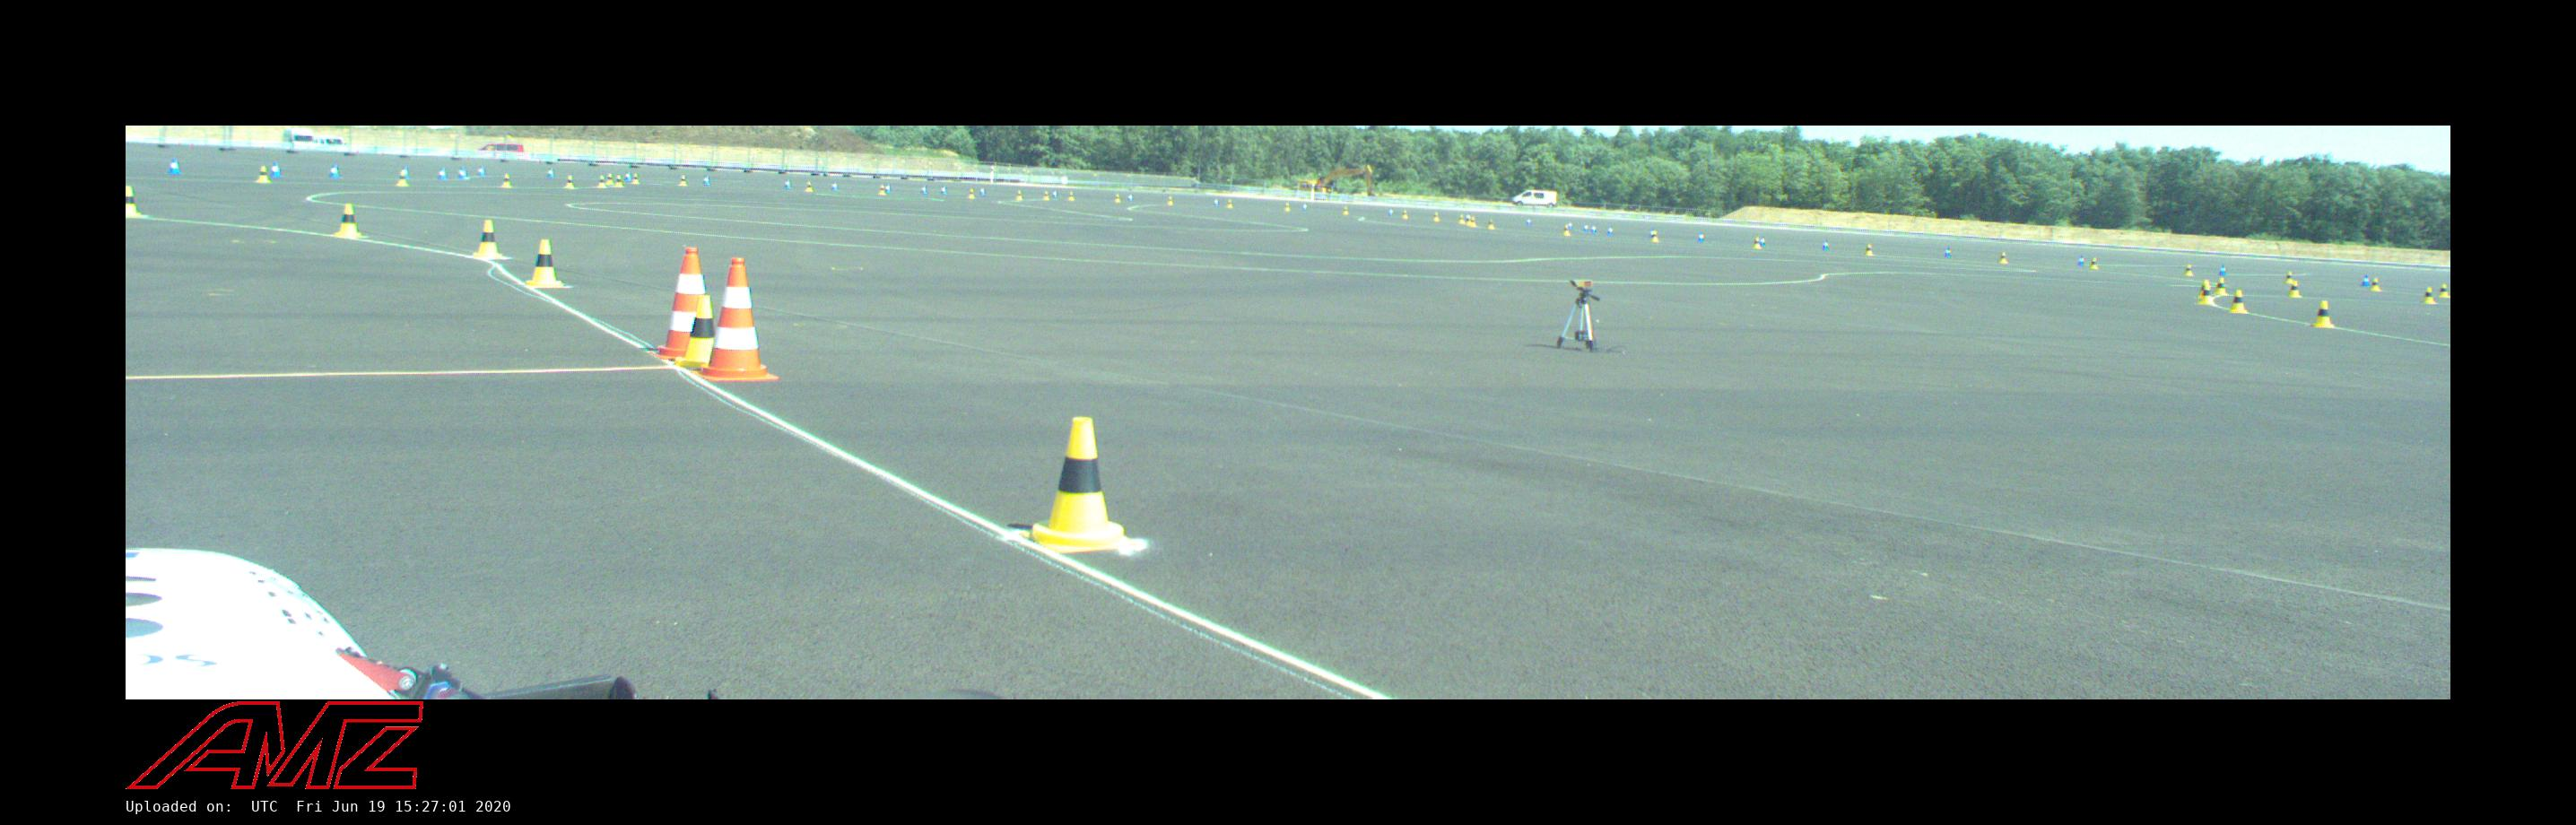blue_cone: (168, 159, 181, 174), (271, 163, 281, 177), (401, 166, 411, 181), (437, 166, 447, 181), (329, 164, 338, 177), (458, 166, 467, 179), (2077, 255, 2085, 266), (2219, 265, 2228, 276), (701, 176, 710, 186), (784, 179, 792, 189), (547, 168, 554, 179), (1945, 247, 1952, 258), (1760, 235, 1766, 247), (1648, 227, 1654, 238), (624, 171, 631, 181), (478, 166, 485, 176), (831, 181, 838, 191), (2362, 276, 2369, 286), (1822, 240, 1828, 250), (885, 184, 892, 194), (1526, 217, 1533, 227), (979, 186, 986, 196), (1699, 232, 1704, 243), (1607, 227, 1613, 235), (1590, 225, 1597, 233), (1567, 222, 1574, 230), (922, 184, 927, 194), (1127, 194, 1134, 200), (1584, 224, 1589, 232), (1388, 209, 1393, 217), (941, 186, 946, 194), (1214, 199, 1219, 207), (1053, 189, 1058, 197), (1303, 204, 1306, 210)
large_orange_cone: (692, 258, 780, 380), (651, 248, 706, 358)
yellow_cone: (1022, 417, 1130, 551), (675, 296, 715, 368), (526, 240, 562, 288), (473, 220, 503, 258), (335, 204, 361, 237), (2312, 301, 2334, 327), (127, 184, 141, 217), (2229, 289, 2246, 312), (2196, 284, 2215, 304), (2198, 278, 2213, 299), (2213, 278, 2229, 296), (255, 166, 271, 182), (2422, 288, 2436, 304), (2288, 281, 2302, 297), (396, 169, 409, 186), (2438, 283, 2451, 297), (563, 174, 575, 189), (2371, 278, 2382, 291), (501, 174, 513, 187), (1865, 243, 1875, 256), (2183, 263, 2193, 276), (614, 174, 624, 187), (2285, 271, 2295, 283), (1753, 237, 1761, 250), (631, 174, 641, 184), (805, 181, 813, 192), (2090, 258, 2098, 270), (679, 174, 687, 186), (606, 173, 614, 184), (1999, 251, 2008, 263), (598, 176, 606, 187), (877, 184, 885, 194), (1651, 230, 1658, 242), (1564, 225, 1571, 237), (1470, 217, 1477, 227), (1433, 212, 1439, 222), (1459, 214, 1465, 224), (1068, 191, 1074, 200), (968, 189, 974, 199), (1166, 196, 1173, 205), (1226, 199, 1232, 209), (1114, 194, 1120, 202), (1403, 209, 1408, 219), (1017, 191, 1022, 200), (1467, 215, 1472, 225), (1342, 207, 1349, 214), (1488, 220, 1493, 228), (1043, 192, 1048, 200), (1285, 202, 1290, 210)
